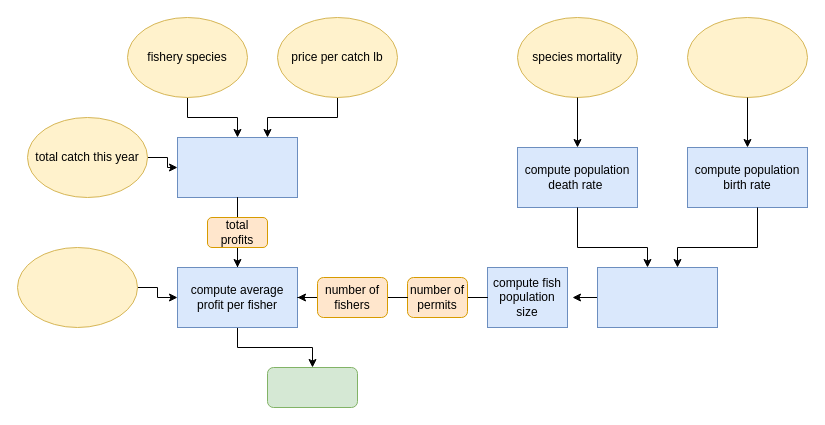
Image size: 825x425. Some labels were removed from this diagram. Each missing label, with the box of its shape:
average profit per fisher: (266, 366, 358, 408)
compute population growth rate: (596, 266, 718, 328)
compute total annual profits: (176, 136, 298, 198)
number of fishers by permits: (16, 246, 138, 328)
species recruitment: (686, 16, 808, 98)
